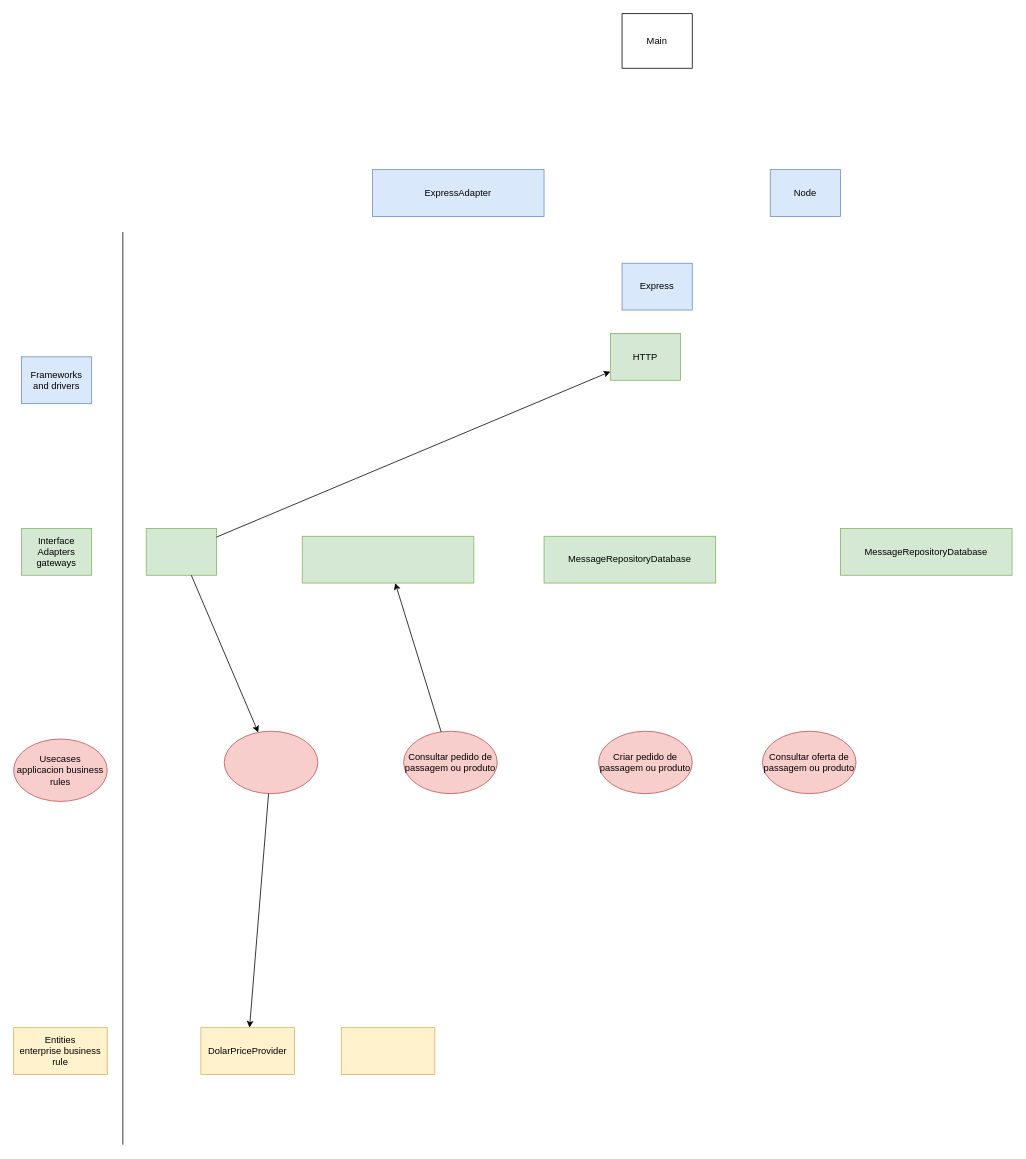
This 1026x1159 diagram has some shape labels left out. The shapes that lost their labels are listed below. From the top down, each one's centre as x and y in pixels, then its label:
At pixel 180 551: "CriarOfertaController".
At pixel 387 559: "ProdutoServiçoRepositoryDatabase".
At pixel 270 762: "Criar oferta de passagem ou produto".
